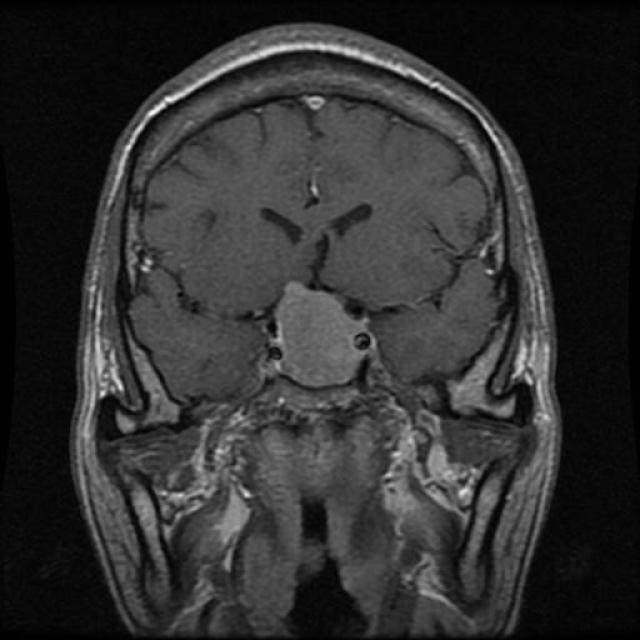Brain-Tumor: (257, 266, 388, 396)
